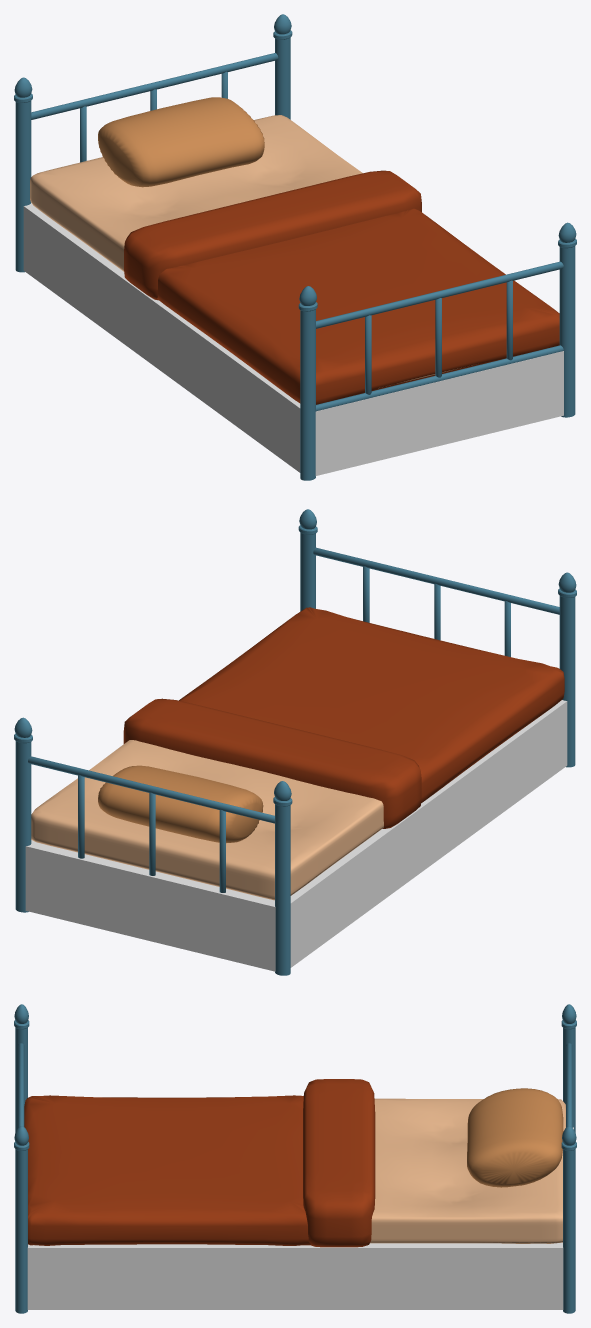
Rendered from bed_tier3.fbx.
3 renders of one model, top to bottom at view 1: azimuth 30°, elevation 25°; view 2: azimuth 150°, elevation 25°; view 3: azimuth 270°, elevation 25°, orthographic. The views are drawn at different scales.
Visible parts, largest first — view 1: Cube.002, Cube, Cube.001, Cylinder.012, Cylinder.007, Cylinder.006, Cylinder.001, Cylinder.005, Cylinder.004, Cylinder.013, Cylinder; view 2: Cube.002, Cube, Cube.001, Cylinder.012, Cylinder.001, Cylinder, Cylinder.007, Cylinder.004, Cylinder.005, Cylinder.006; view 3: Cube.002, Cube, Cube.001, Cylinder.012, Cylinder, Cylinder.006, Cylinder.001, Cylinder.007, Cylinder.004, Cylinder.005.
Boxes of the visible parts, <box> form: Cube.002: <box>124,170,559,404</box>; Cube: <box>23,203,563,475</box>; Cube.001: <box>30,115,472,388</box>; Cylinder.012: <box>98,97,264,187</box>; Cylinder.007: <box>298,286,317,480</box>; Cylinder.006: <box>558,222,576,417</box>; Cylinder.001: <box>14,77,32,272</box>; Cylinder.005: <box>316,261,563,328</box>; Cylinder.004: <box>31,53,278,119</box>; Cylinder.013: <box>316,345,563,411</box>; Cylinder: <box>273,14,292,119</box>; Cube.002: <box>123,607,564,828</box>; Cube: <box>25,700,567,971</box>; Cube.001: <box>31,740,383,900</box>; Cylinder.012: <box>98,765,263,843</box>; Cylinder.001: <box>273,781,292,975</box>; Cylinder: <box>14,717,32,912</box>; Cylinder.007: <box>558,572,576,767</box>; Cylinder.004: <box>28,756,274,823</box>; Cylinder.005: <box>313,547,559,614</box>; Cylinder.006: <box>298,509,317,611</box>; Cube.002: <box>24,1079,375,1247</box>; Cube: <box>27,1127,573,1309</box>; Cube.001: <box>370,1098,565,1243</box>; Cylinder.012: <box>467,1088,563,1187</box>; Cylinder: <box>561,1126,576,1313</box>; Cylinder.006: <box>14,1126,29,1313</box>; Cylinder.001: <box>561,1004,576,1132</box>; Cylinder.007: <box>14,1004,29,1132</box>; Cylinder.004: <box>566,1043,572,1127</box>; Cylinder.005: <box>18,1043,24,1127</box>.
Bounding box in the file's own units: 197 × 131 × 361.
